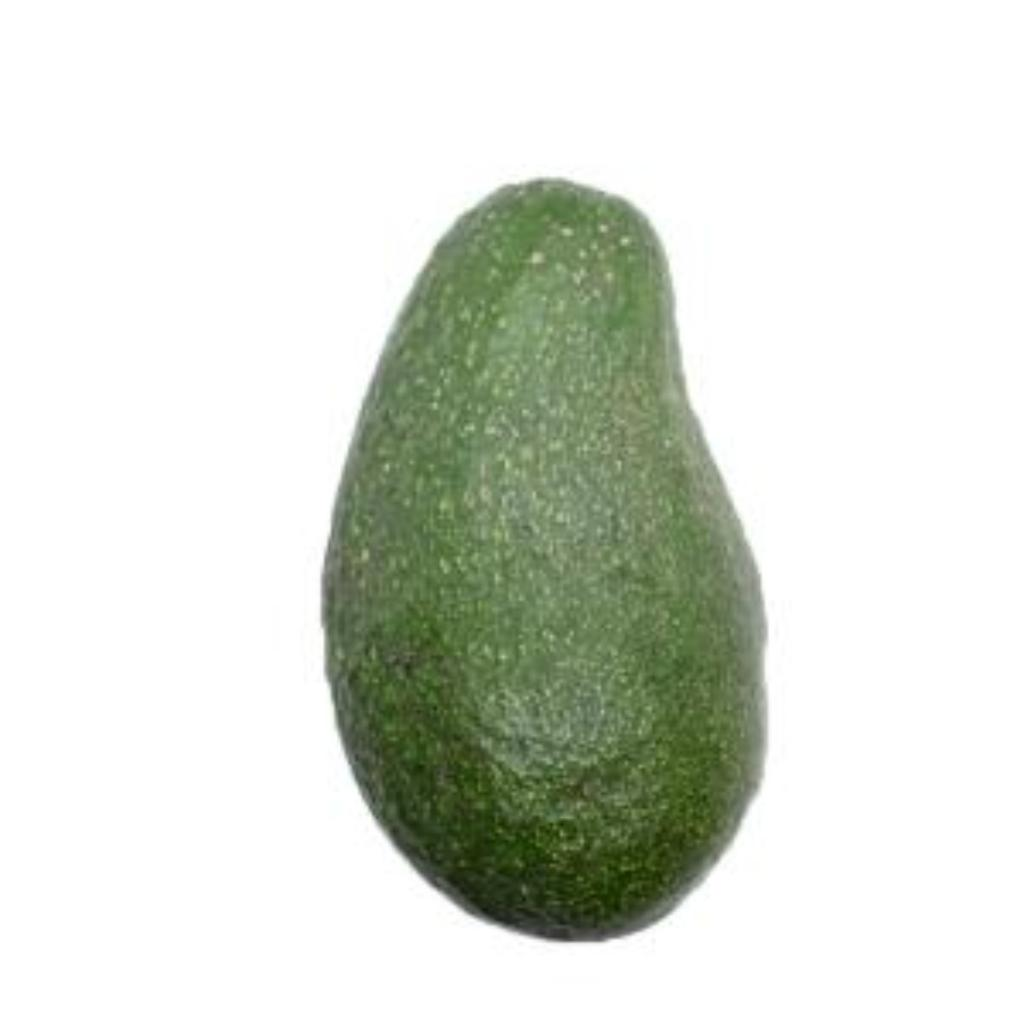cercospora_spot: (307, 154, 781, 946)
